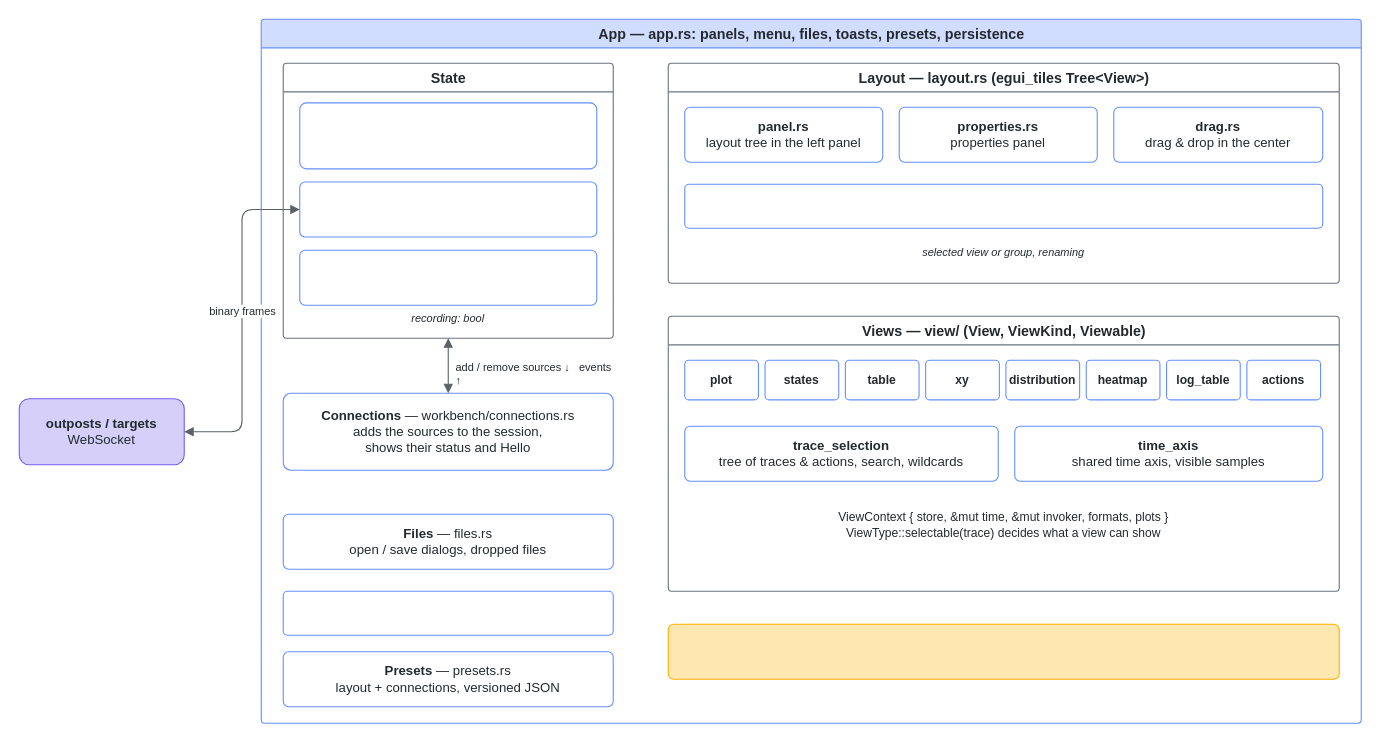
Image size: 1381x743. Some labels were removed from this diagram. The shapes that lost their labels are listed below. From the top down, each one's centre as x and y in pixels, then its label:
At pixel 448 135: "TimeRange — widgets/time.rs window, live / paused / playing, cursor, timeline".
At pixel 448 209: "Session — store/session.rs MemoryStore · Recorder · sources".
At pixel 1003 205: "file.rs — saved form: Group, Node".
At pixel 448 277: "Invoker — store/actions.rs outbox, pending answers, timeouts".
At pixel 447 612: "Toasts — toasts.rs · theme.rs".
At pixel 1003 651: "proto crate Message, Data, Request, ActionDescriptor".
